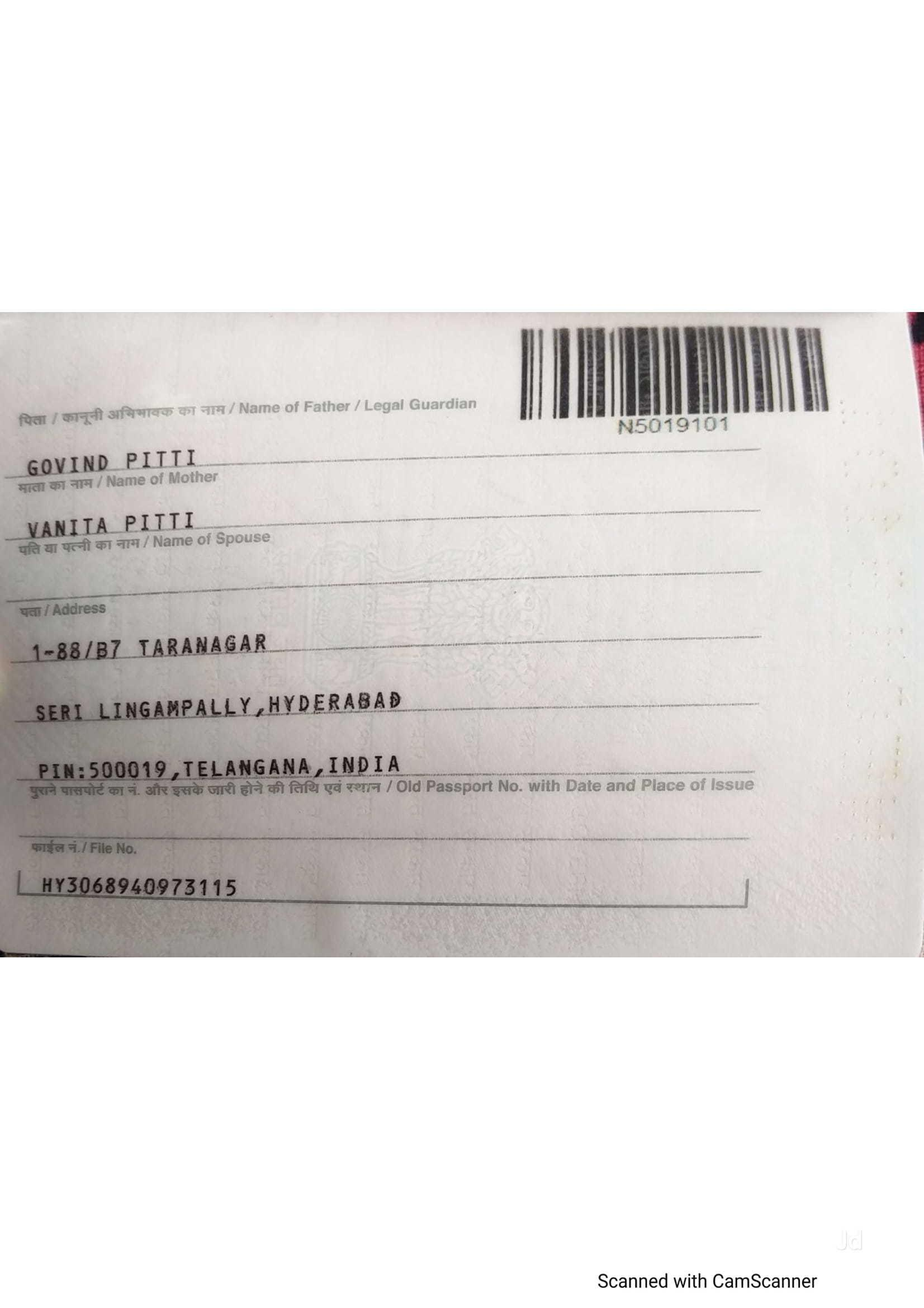File_no: (34, 870, 247, 900)
address: (21, 631, 449, 778)
father_name: (15, 434, 215, 478)
mother_name: (19, 506, 215, 539)
passport_no: (606, 415, 755, 440)
